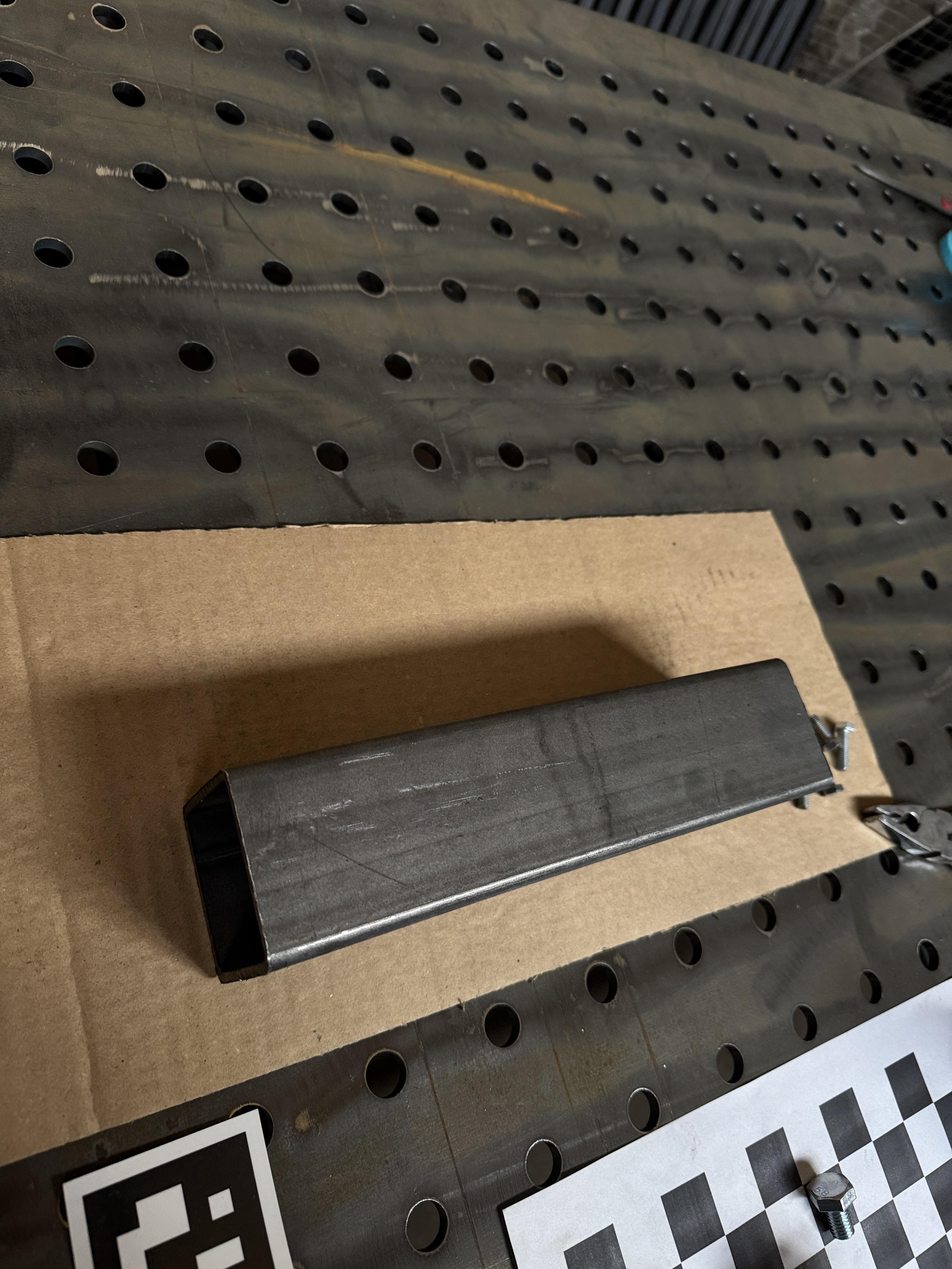detail: (181, 658, 837, 982)
